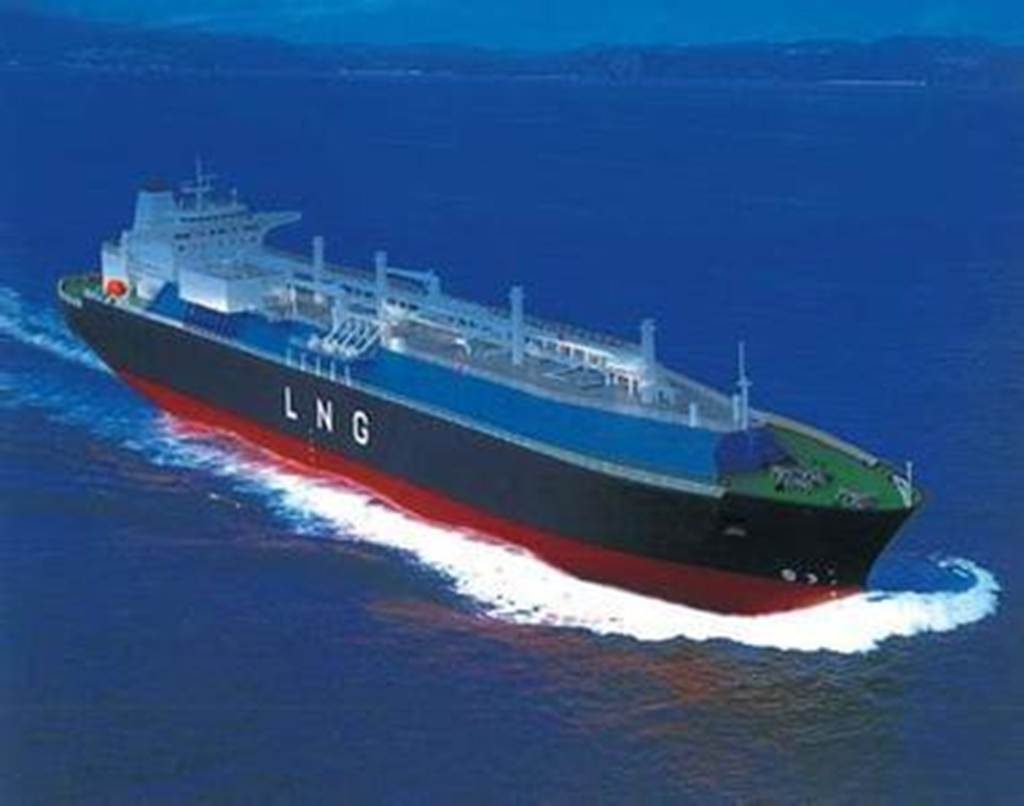Cargoship: (51, 159, 934, 605)
